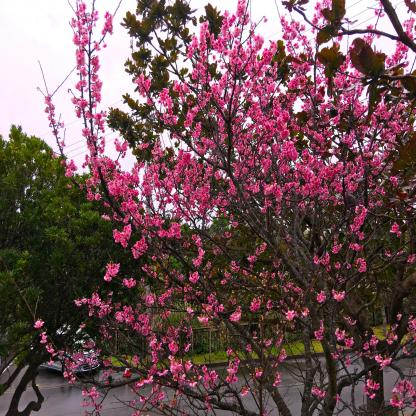KanhiSakura: (33, 0, 416, 415)
